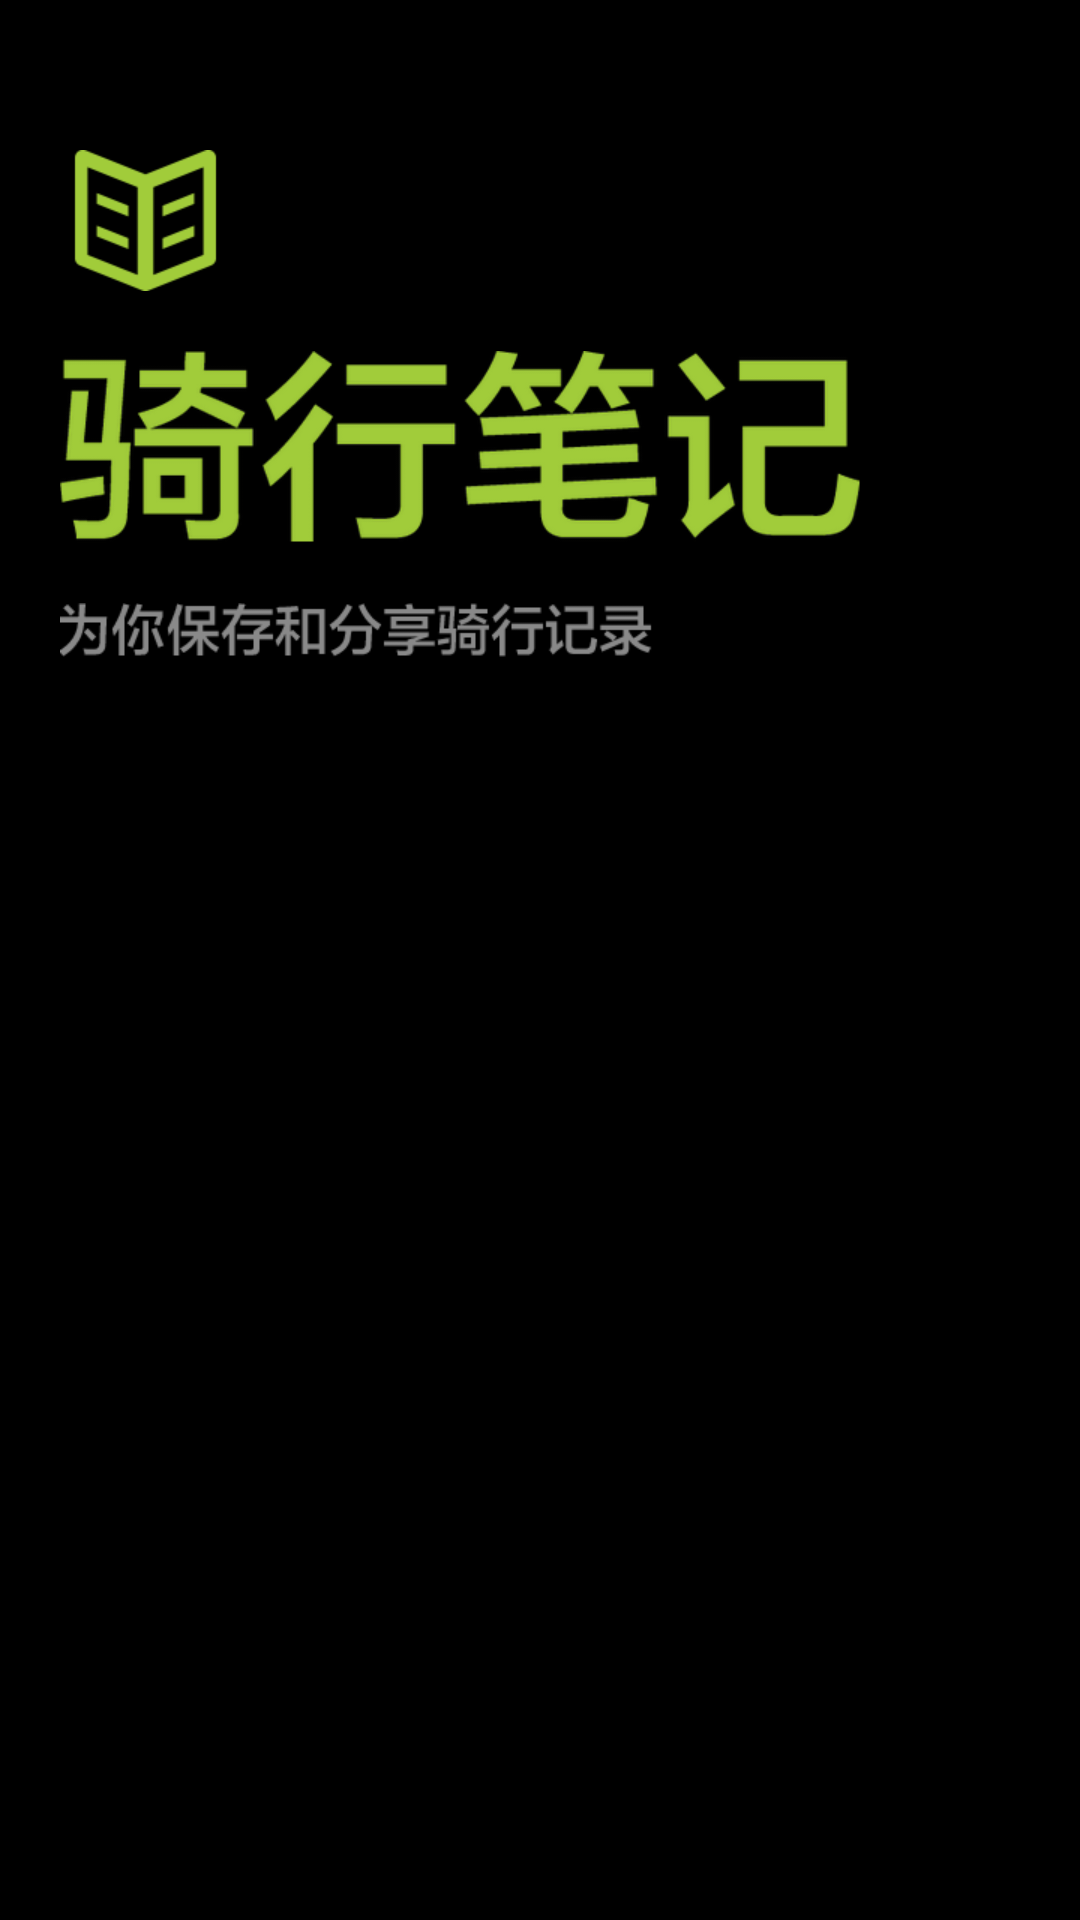

Where to tap for icons on this 1080px x 1920px app screen, as (x,y):
guide: (145,220)
